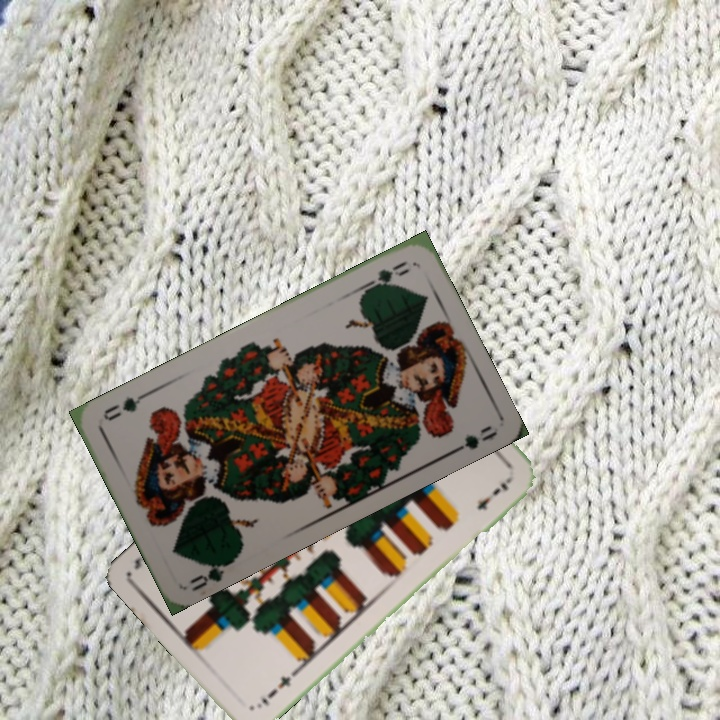E7: (252, 667, 300, 711)
GO: (358, 256, 413, 297), (185, 554, 238, 594)
